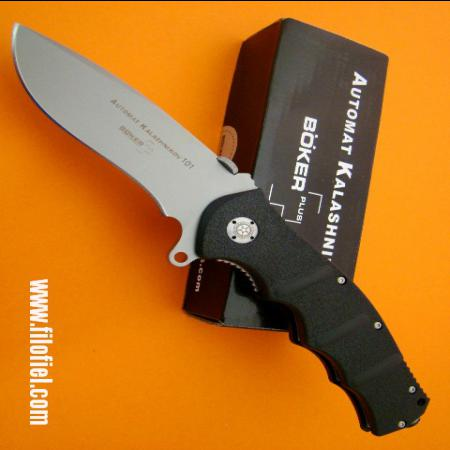long weapon: (5, 17, 255, 228)
